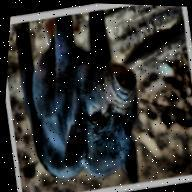boar: (2, 2, 160, 192)
